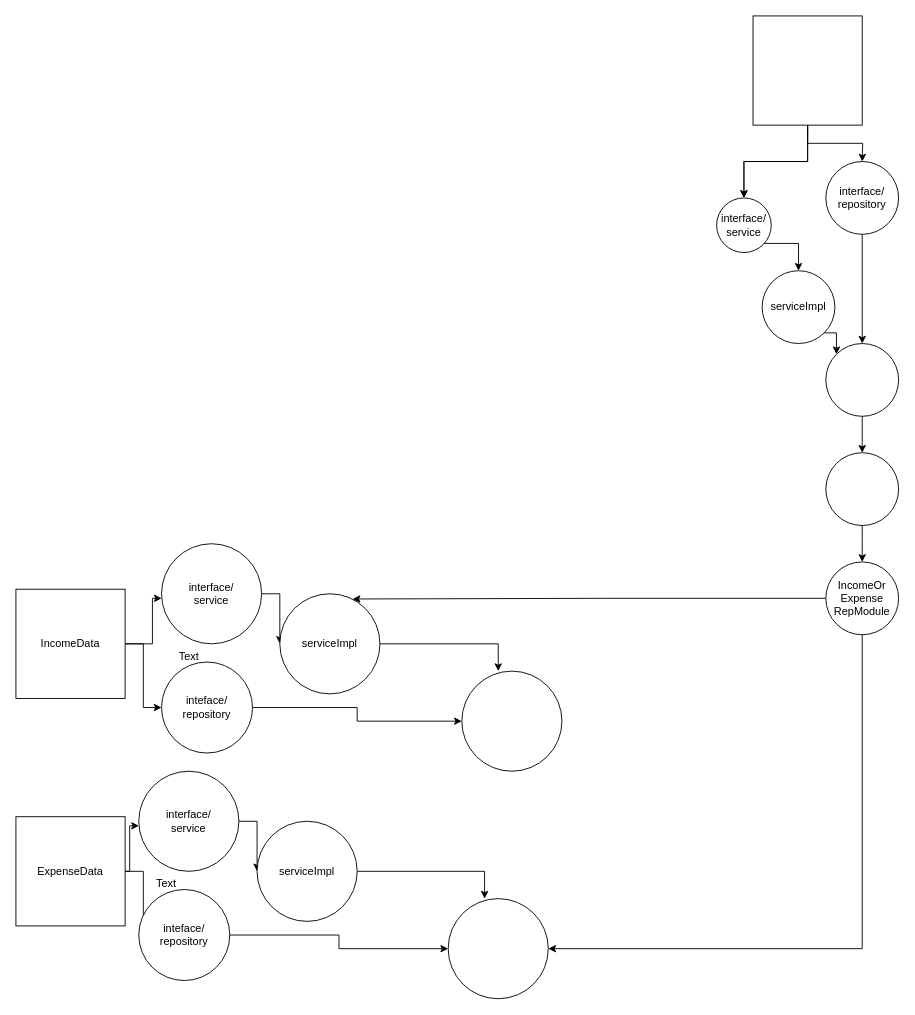
Some shapes in this 915 by 1015 pixel diagram are drawn without their labels. Here are the shapes that lost their labels. From the top down, the centre of each, then its label:
At (807,70): "OfxData".
At (862,379): "OfxRepParser".
At (862,489): "interface ModuleRep".
At (511,720): "IncomeDataMysql Repostory".
At (497,948): "ExpenseDataMysql Repostory".
